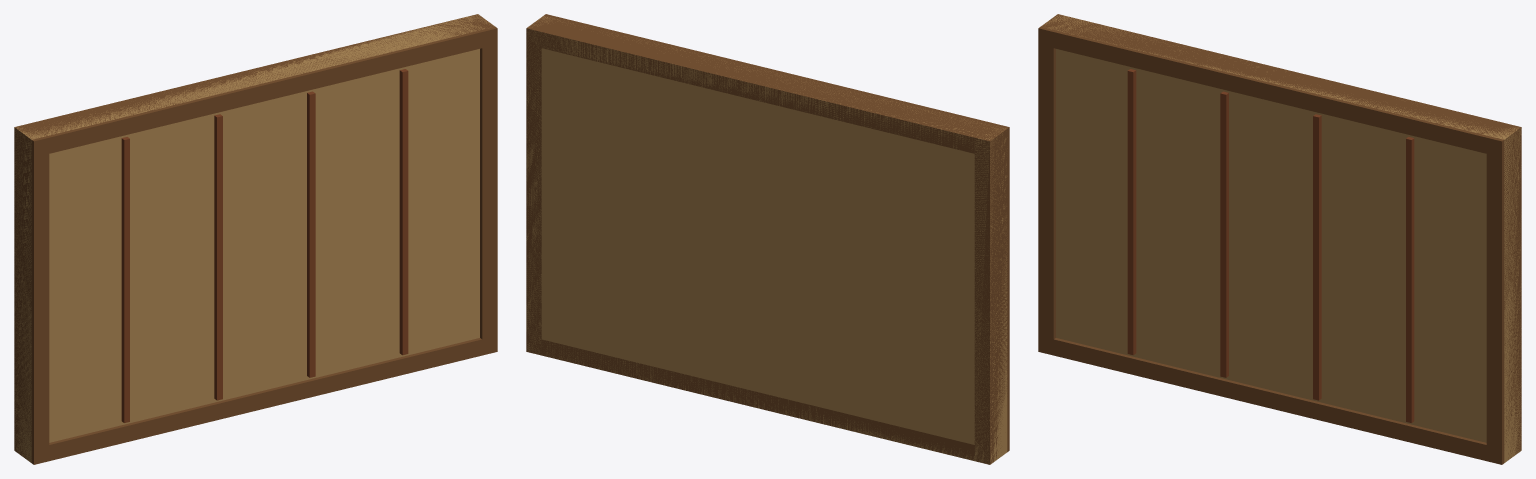
The model's file is FRM_022_A_LODs.fbx.
The picture shows the model from 3 angles, left to right: view 1: azimuth 30°, elevation 25°; view 2: azimuth 150°, elevation 25°; view 3: azimuth 330°, elevation 25°; orthographic projection.
Visible parts, largest first — view 1: FRM_022_A_LOD0; view 2: FRM_022_A_LOD0; view 3: FRM_022_A_LOD0.
Part boxes in pixels (x1,y1,x2,y2): FRM_022_A_LOD0: (14,14,497,464); FRM_022_A_LOD0: (526,14,1009,464); FRM_022_A_LOD0: (1038,14,1521,464).
Size of what is drawn, in the model's own units: 2.4 by 1.6 by 0.18.
